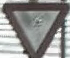Give way: (0, 0, 65, 54)
